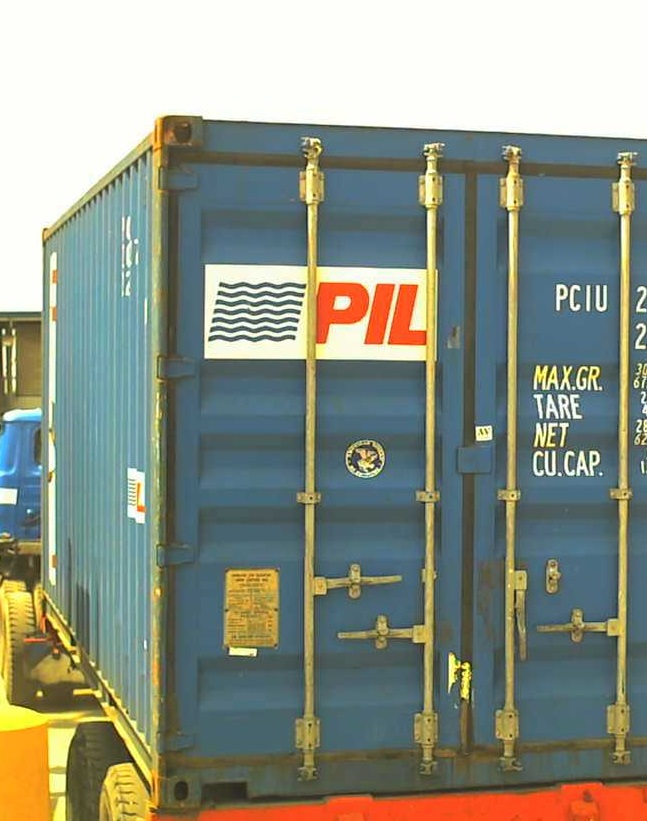container_door: (155, 113, 647, 810)
